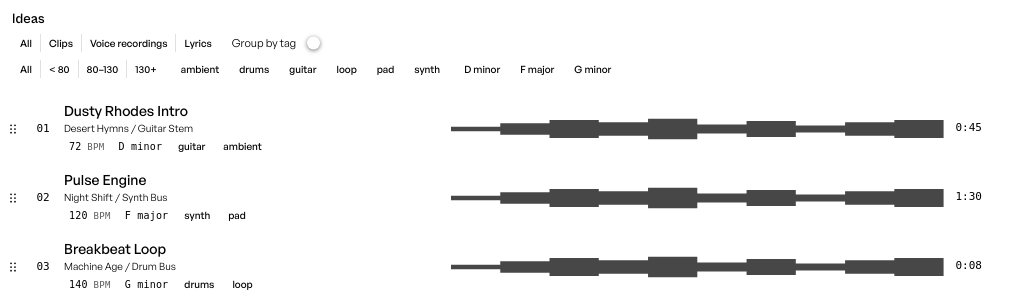
it: IdeasLibrary — BPM filter › Fast (130+) shows only the 140 BPM idea
Click the radio button labelled "130+": (146, 69) left=127, top=60, right=165, bottom=78
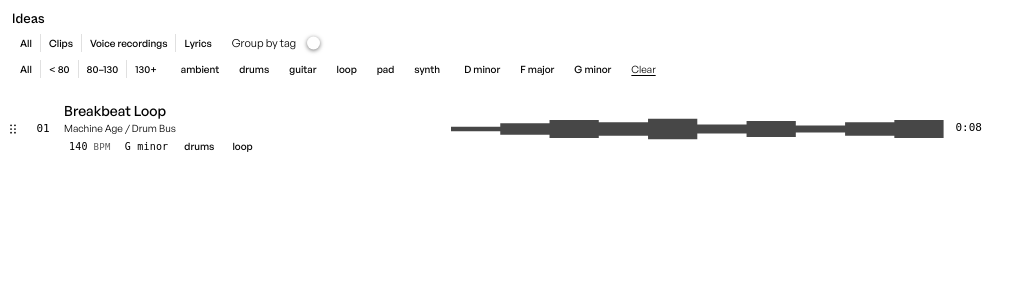
Check: the text "Breakbeat Loop" is shown, box left=64, top=102, right=166, bottom=120
Check: the number of list items with test id "idea-row" is 1, box left=0, top=94, right=1023, bottom=163
